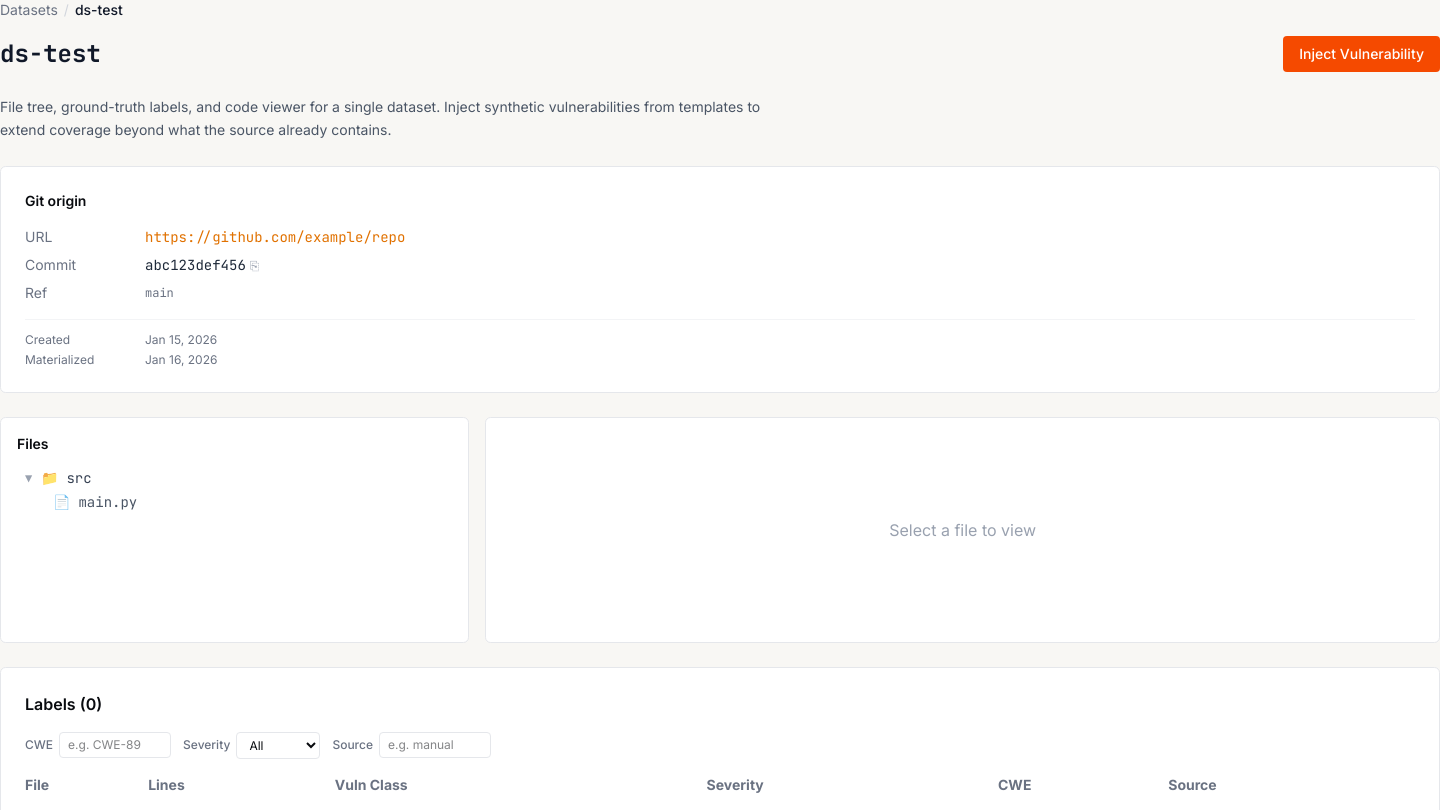
Test case: DatasetDetail — injection workflow › opens injection modal at step 1 when Inject Vulnerability is clicked
This screenshot has width=1440, height=810.
Click the button "Inject Vulnerability": (1362, 54) [1283,36,1439,72]
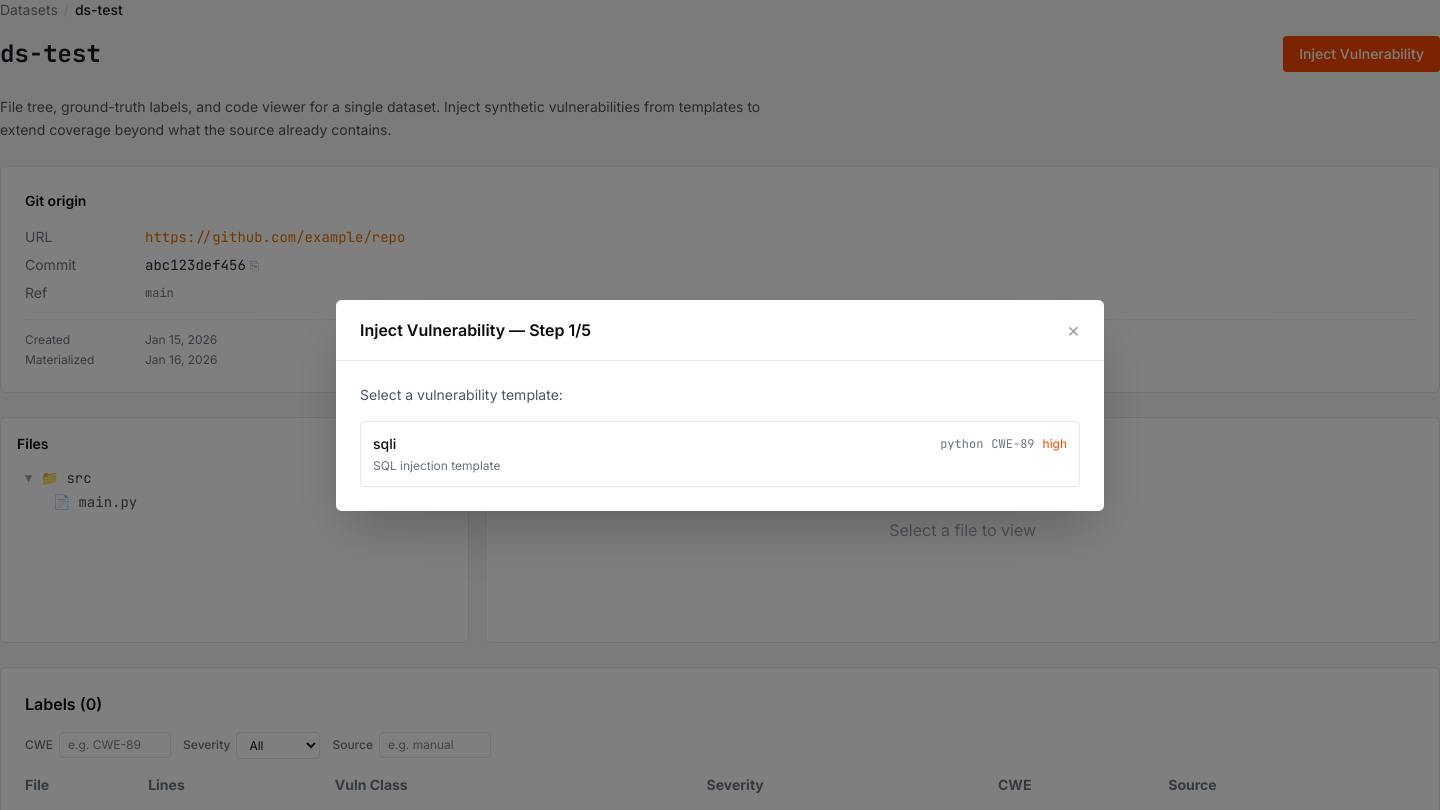
Expected: the heading "Inject Vulnerability — Step 1/5" is shown, [360,318,591,342]
